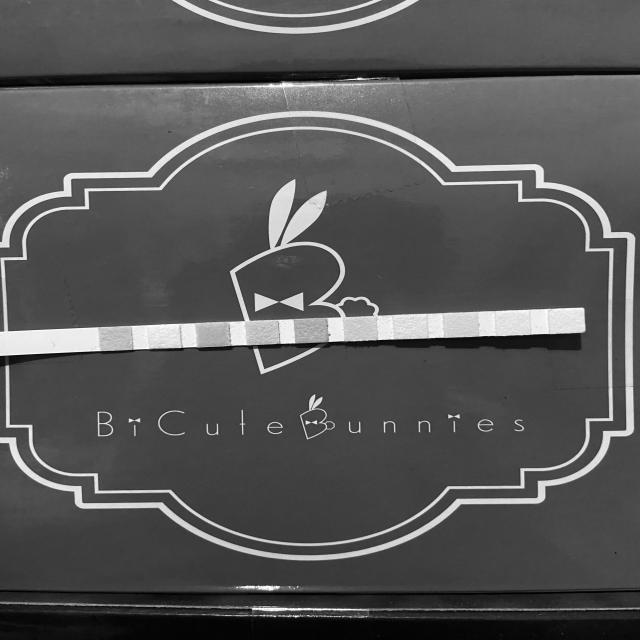Bilirubin: (150, 325, 180, 348)
Blood: (296, 319, 327, 342)
Glucose: (100, 327, 132, 350)
Ketone: (198, 323, 229, 346)
Leukocytes: (549, 309, 584, 333)
Nitrite: (497, 312, 530, 335)
Protein: (394, 315, 426, 338)
SpGravity: (247, 321, 278, 344)
Urobilinogen: (444, 313, 478, 337)
background: (0, 0, 640, 640)
pH: (345, 318, 376, 340)
strip: (8, 307, 585, 356)
